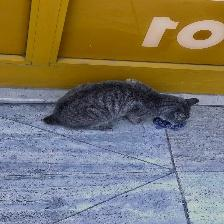kedo: (42, 80, 199, 129)
